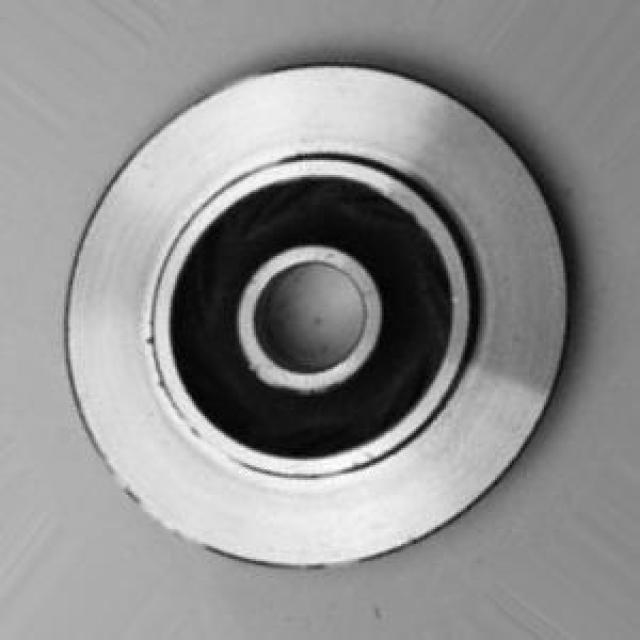Defect: (134, 329, 166, 358)
